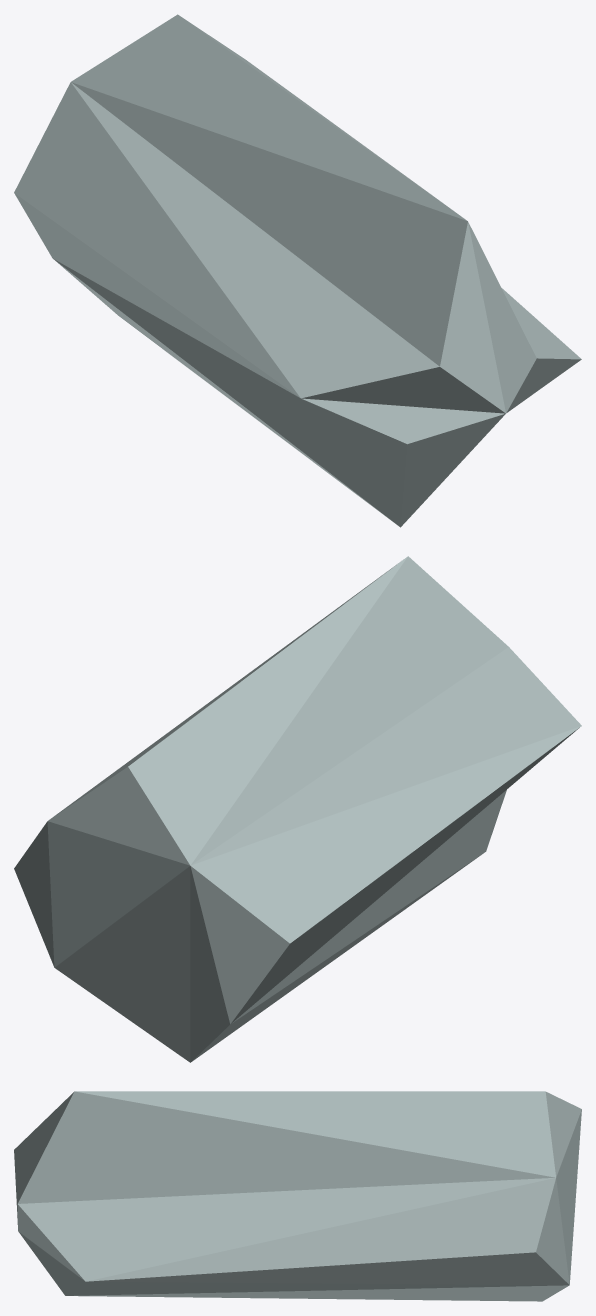
Rendered from zb006-geode.glb.
The picture shows the model from 3 angles, top to bottom: view 1: azimuth 30°, elevation 25°; view 2: azimuth 150°, elevation 25°; view 3: azimuth 270°, elevation 25°; orthographic projection. The views are drawn at different scales.
Visible parts, largest first — view 1: Node; view 2: Node; view 3: Node.
Boxes of the visible parts, x1,y1,x2,y2 form: Node: (14, 14, 581, 527); Node: (14, 556, 581, 1062); Node: (14, 1091, 581, 1301).
Bounding box in the file's own units: 0.0419 × 0.0394 × 0.0859.
1 material, 1 textured.
